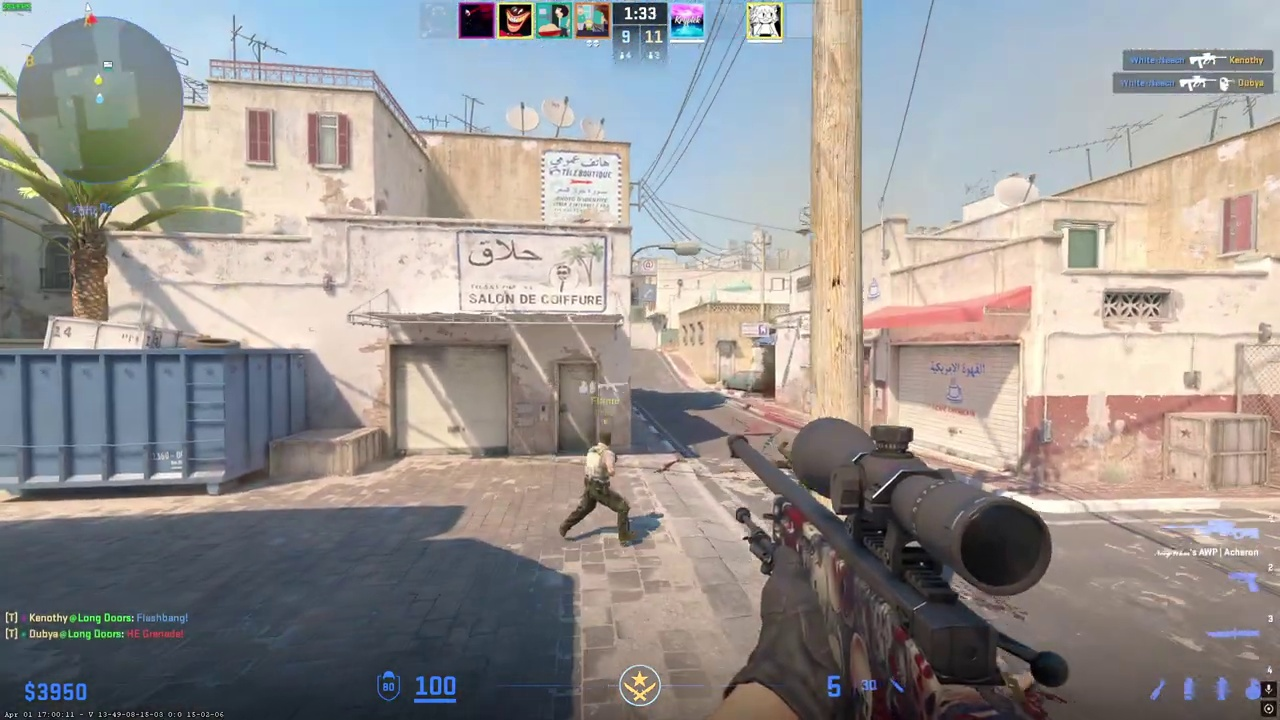Terrorist: (562, 431, 636, 541)
